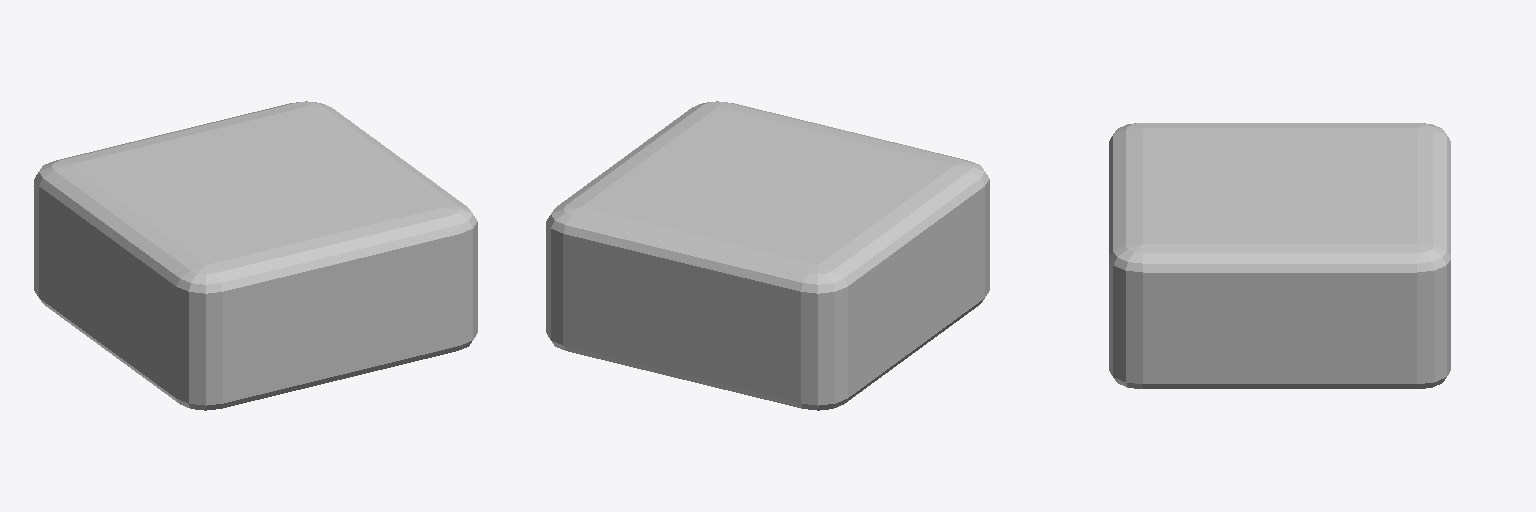
The model's file is Unit.obj.
3 renders of one model, left to right at view 1: azimuth 30°, elevation 25°; view 2: azimuth 150°, elevation 25°; view 3: azimuth 270°, elevation 25°, orthographic.
Parts seen in each view (by area): view 1: mesh_0, mesh_1; view 2: mesh_0, mesh_1; view 3: mesh_0, mesh_1.
Part boxes in pixels (bbox=[...]): mesh_0: bbox=[34, 101, 477, 321]; mesh_1: bbox=[34, 207, 477, 410]; mesh_0: bbox=[546, 101, 989, 321]; mesh_1: bbox=[546, 207, 989, 410]; mesh_0: bbox=[1109, 123, 1450, 299]; mesh_1: bbox=[1109, 288, 1450, 388].
Bounding box in the file's own units: 10 × 4.5 × 10.